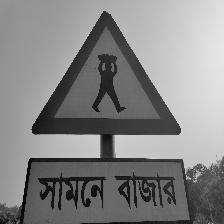Market-in-front: (16, 11, 192, 224)
